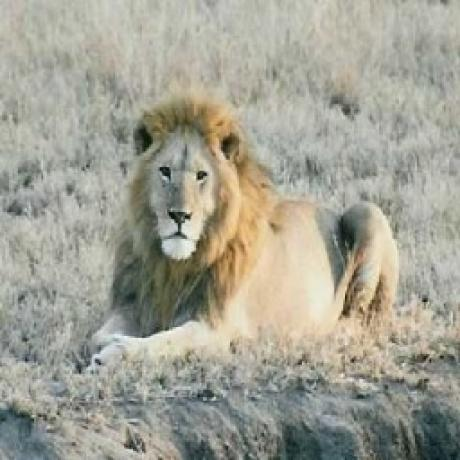Lion: (88, 92, 408, 364)
